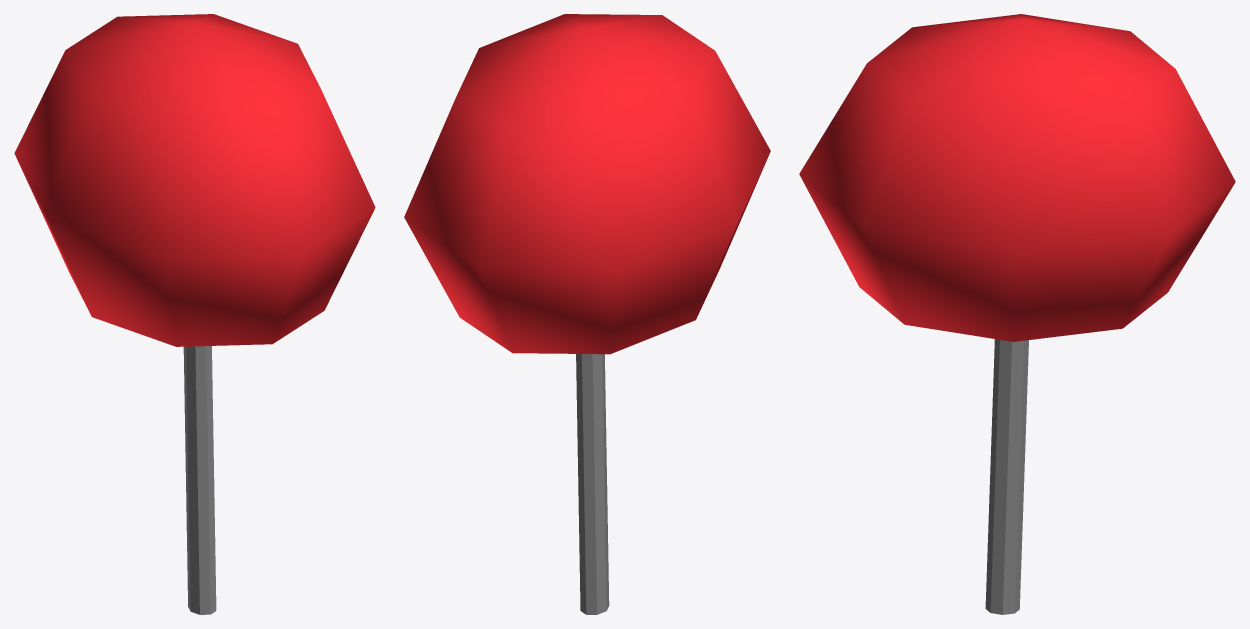
The model's file is MOD_BalloonA.FBX.
The picture shows the model from 3 angles, left to right: view 1: azimuth 30°, elevation 25°; view 2: azimuth 150°, elevation 25°; view 3: azimuth 270°, elevation 25°; orthographic projection.
Visible parts, largest first — view 1: Sphere003; view 2: Sphere003; view 3: Sphere003.
Boxes of the visible parts, x1,y1,x2,y2 form: Sphere003: [14, 14, 375, 614]; Sphere003: [404, 14, 770, 614]; Sphere003: [799, 14, 1235, 614].
Size of the model in its own units: 18.5 by 34.48 by 23.14.
